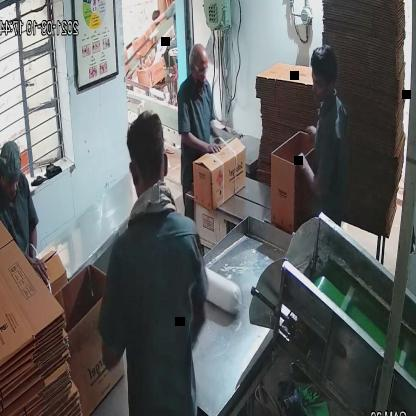no_glove: (291, 147, 325, 200), (183, 123, 222, 161)
